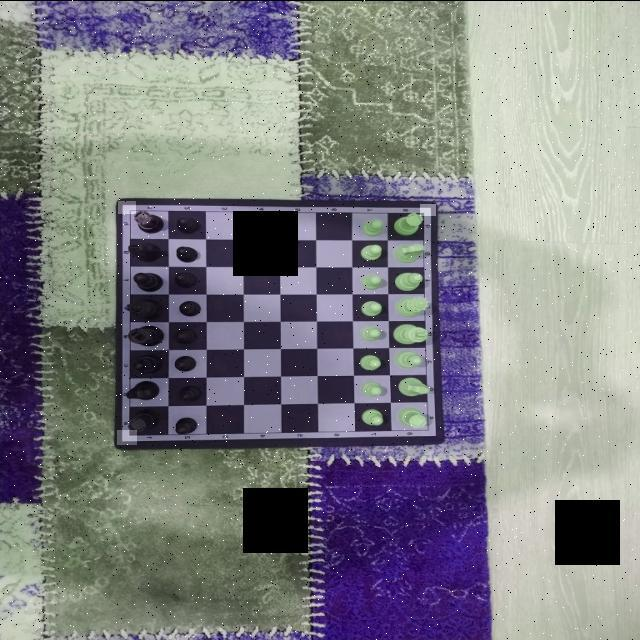chess-table-corners: (422, 425, 443, 440), (117, 429, 137, 444), (118, 200, 136, 213), (420, 203, 436, 215)
